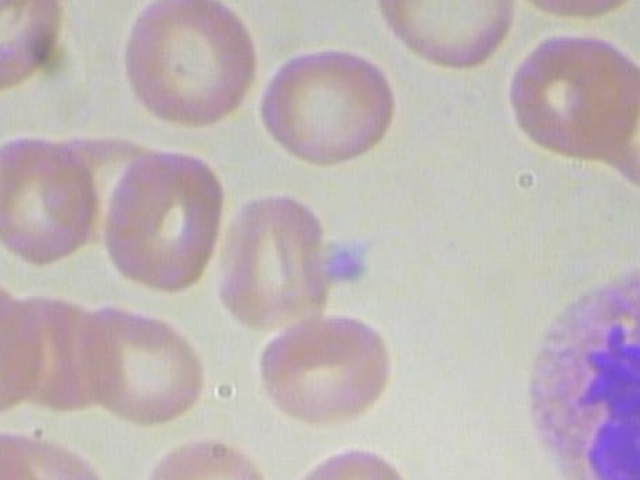Platelets: (319, 232, 369, 290)
RBC: (111, 0, 272, 138), (94, 148, 240, 293), (256, 43, 409, 178), (245, 311, 405, 438), (506, 23, 640, 167), (66, 297, 211, 429), (219, 191, 337, 333), (0, 132, 97, 269), (368, 0, 534, 74), (0, 0, 74, 97), (131, 433, 280, 480), (0, 427, 111, 480), (278, 443, 420, 480)
WBC: (504, 256, 640, 480)
